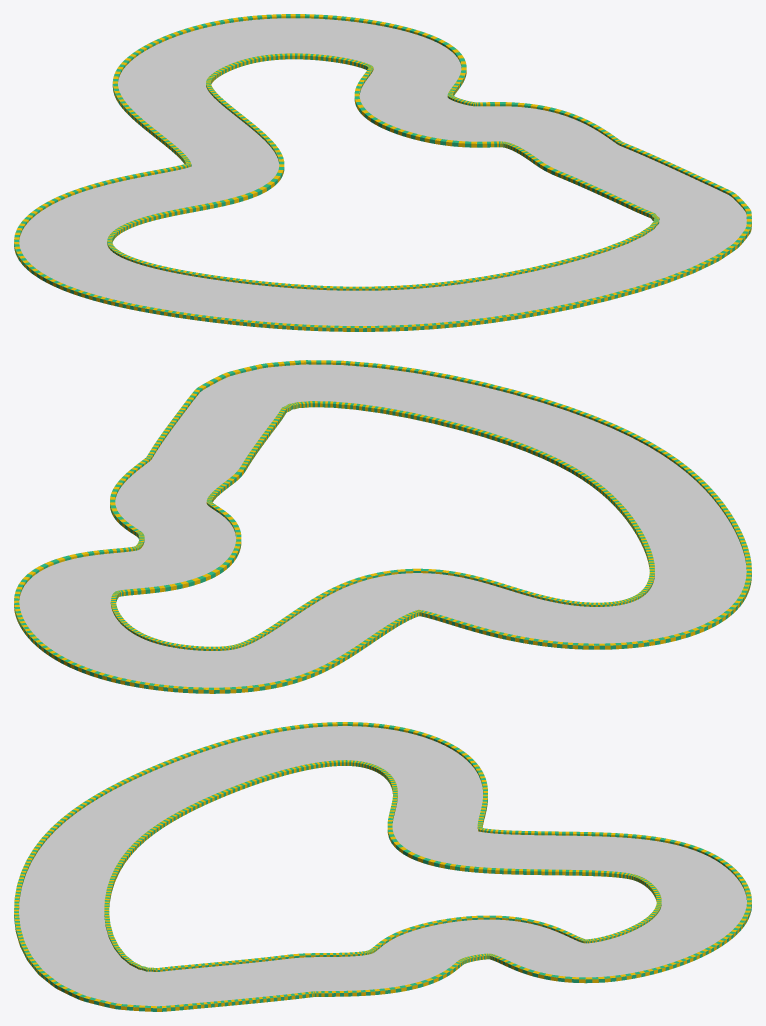
Rendered from map02.glb.
3 renders of one model, top to bottom at view 1: azimuth 30°, elevation 25°; view 2: azimuth 150°, elevation 25°; view 3: azimuth 270°, elevation 25°, orthographic. The views are drawn at different scales.
Visible parts, largest first — view 1: road01, barrier02, barrier01; view 2: road01, barrier02, barrier01; view 3: road01, barrier02, barrier01.
Part boxes in pixels (x1,y1,x2,y2): road01: [19, 18, 746, 325]; barrier02: [14, 14, 751, 331]; barrier01: [107, 53, 659, 290]; road01: [19, 364, 746, 687]; barrier02: [14, 360, 751, 693]; barrier01: [110, 401, 654, 650]; road01: [19, 726, 746, 1006]; barrier02: [14, 722, 751, 1011]; barrier01: [104, 760, 661, 971].
Bounding box in the file's own units: 273 × 1.63 × 297.
Materials: 2 (1 with a texture image).
